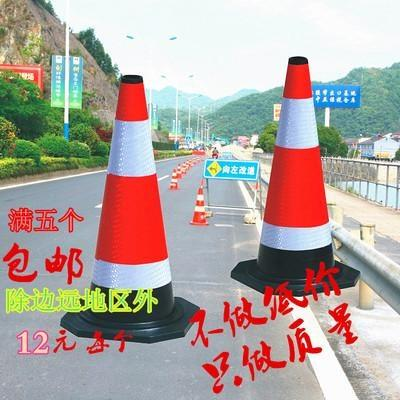cone_barrel: (70, 79, 186, 338), (244, 56, 347, 287), (186, 177, 212, 226), (167, 168, 179, 189)
